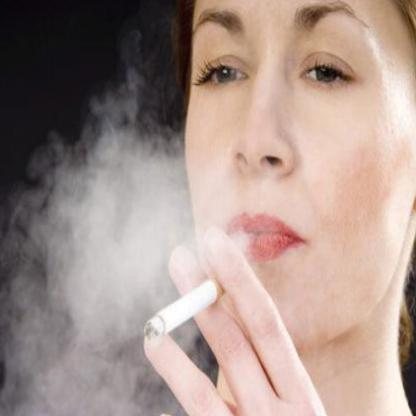cigarette: (144, 279, 222, 341)
person: (180, 0, 416, 415)
smoke: (0, 119, 181, 416)
